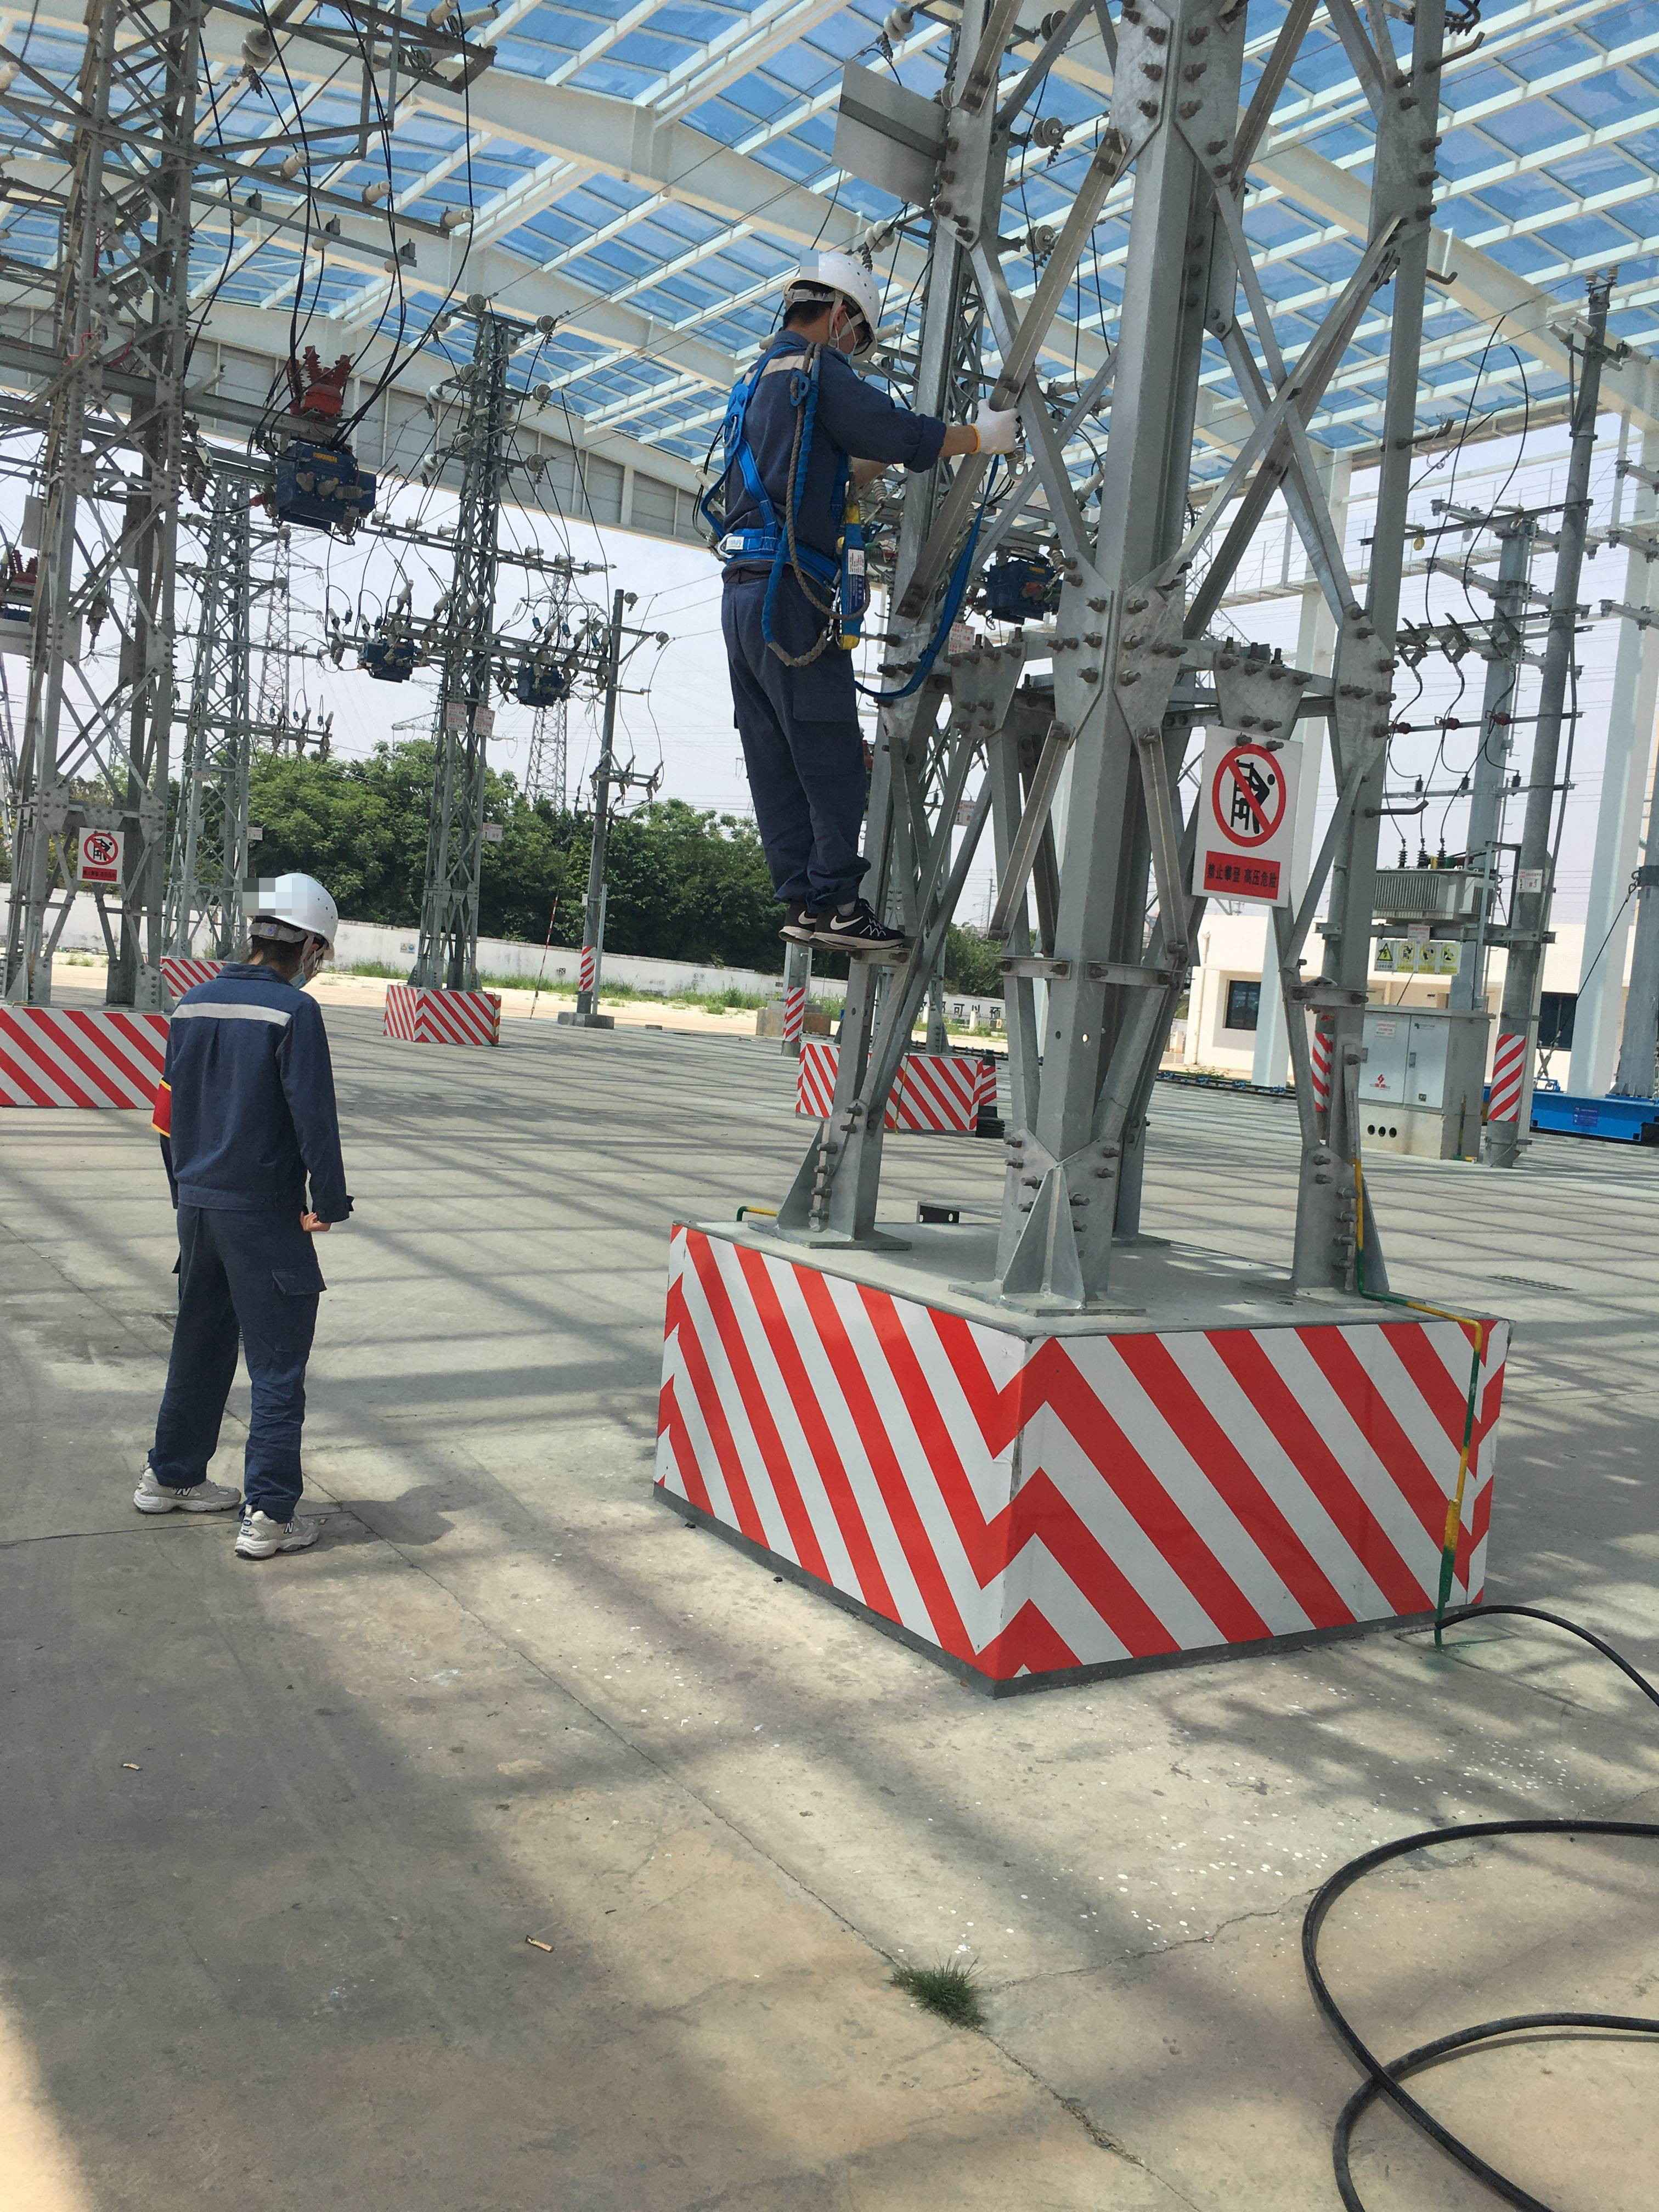downsuit: (716, 582, 880, 897), (146, 1231, 329, 1508)
upsuit: (150, 970, 356, 1212), (714, 340, 946, 550)
wrongtop: (917, 411, 986, 463)
